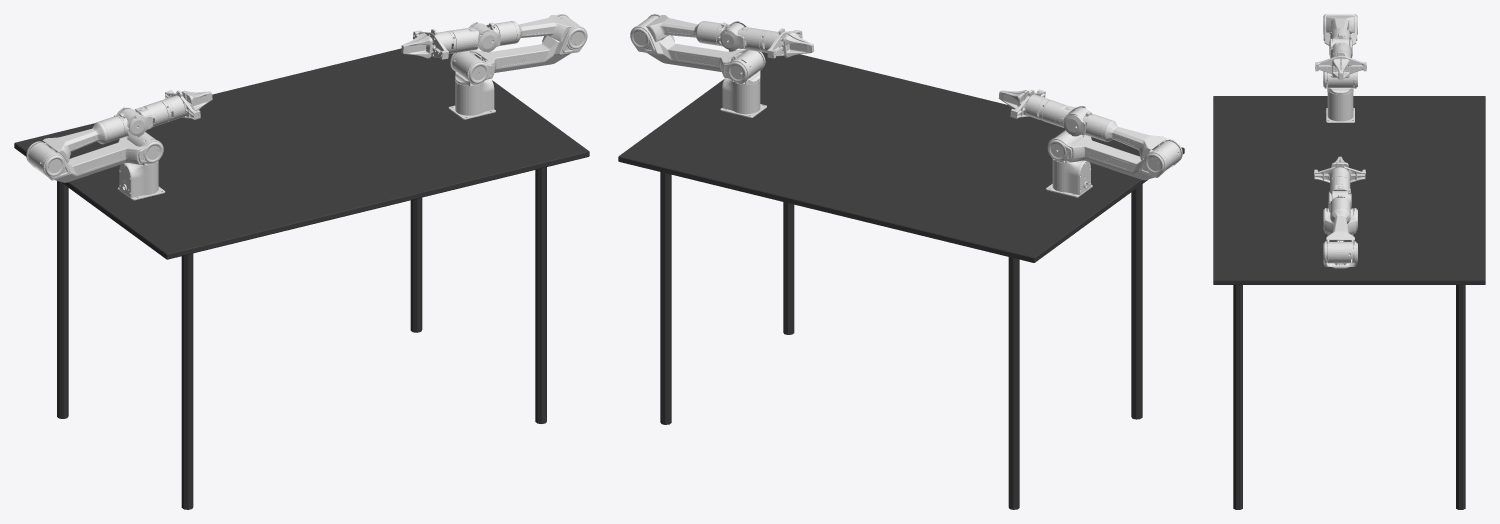
Rendered from Bimanual_PIPER_withTable_aloha2.glb.
3 views of the same model, side by side, from view 1: azimuth 30°, elevation 25°; view 2: azimuth 150°, elevation 25°; view 3: azimuth 270°, elevation 25° (orthographic). The views are drawn at different scales.
Parts seen in each view (by area): view 1: tabletop, tablelegs, link2_1, link2, link3, link3_1, base_link_2, base_link, link5, link2_0, link6, link6_2; view 2: tabletop, tablelegs, link2_1, link2, link3, link3_1, base_link_2, base_link, link5_1, link2_0, link6, link6_2 (+1 smaller); view 3: tabletop, tablelegs, link3_1, base_link, link2_1, link6_2, link3, link6, link1, link2.
Part boxes in pixels (x1,y1,x2,y2): tabletop: [14, 48, 589, 259]; tablelegs: [57, 167, 546, 509]; link2_1: [450, 14, 587, 84]; link2: [26, 136, 163, 182]; link3: [28, 116, 124, 171]; link3_1: [494, 15, 579, 45]; base_link_2: [448, 79, 495, 119]; base_link: [117, 162, 165, 200]; link5: [128, 101, 168, 136]; link2_0: [26, 135, 163, 181]; link6: [160, 90, 200, 122]; link6_2: [413, 29, 456, 59]; tabletop: [618, 52, 1184, 262]; tablelegs: [660, 172, 1142, 509]; link2_1: [630, 14, 765, 83]; link2: [1047, 134, 1182, 180]; link3: [1086, 114, 1180, 169]; link3_1: [637, 15, 721, 45]; base_link_2: [720, 77, 766, 117]; base_link: [1046, 160, 1092, 197]; link5_1: [720, 26, 765, 52]; link2_0: [1048, 135, 1182, 180]; link6: [1010, 89, 1049, 120]; link6_2: [759, 28, 802, 58]; tabletop: [1213, 96, 1485, 284]; tablelegs: [1233, 285, 1465, 509]; link3_1: [1326, 199, 1354, 263]; base_link: [1326, 92, 1354, 122]; link2_1: [1323, 208, 1357, 268]; link6_2: [1314, 162, 1365, 183]; link3: [1326, 14, 1354, 46]; link6: [1315, 50, 1366, 73]; link1: [1327, 72, 1354, 94]; link2: [1323, 14, 1357, 88].
Size of the model in its own units: 1.57 by 0.9972 by 0.762.
Materials: 1 (1 with a texture image).
